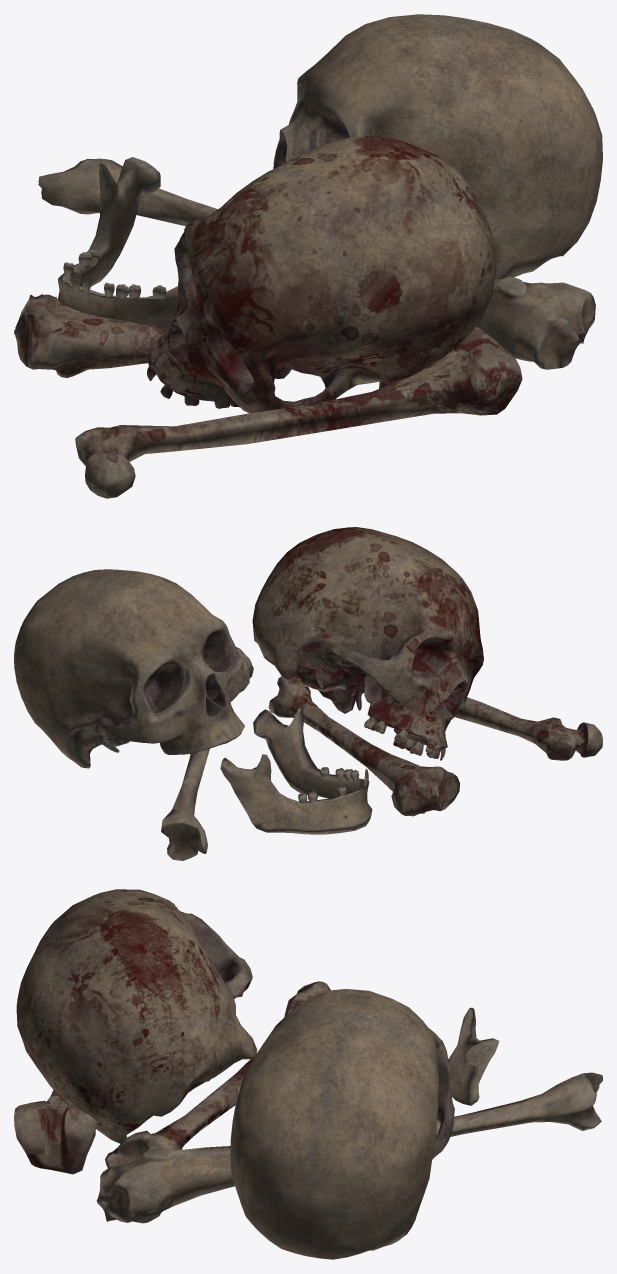
File: sm_HumanRemains_01_01.fbx
3 views of the same model, one above another, from view 1: azimuth 30°, elevation 25°; view 2: azimuth 150°, elevation 25°; view 3: azimuth 270°, elevation 25° (orthographic). The views are drawn at different scales.
Visible parts, largest first — view 1: sm_HumanRemains_01_01_LOD0; view 2: sm_HumanRemains_01_01_LOD0; view 3: sm_HumanRemains_01_01_LOD0.
Part boxes in pixels (x1=…): sm_HumanRemains_01_01_LOD0: x1=14, y1=14, x2=602, y2=498; sm_HumanRemains_01_01_LOD0: x1=14, y1=527, x2=602, y2=860; sm_HumanRemains_01_01_LOD0: x1=14, y1=889, x2=602, y2=1259.
Size of the model in its own units: 52.96 by 47.44 by 20.6.
